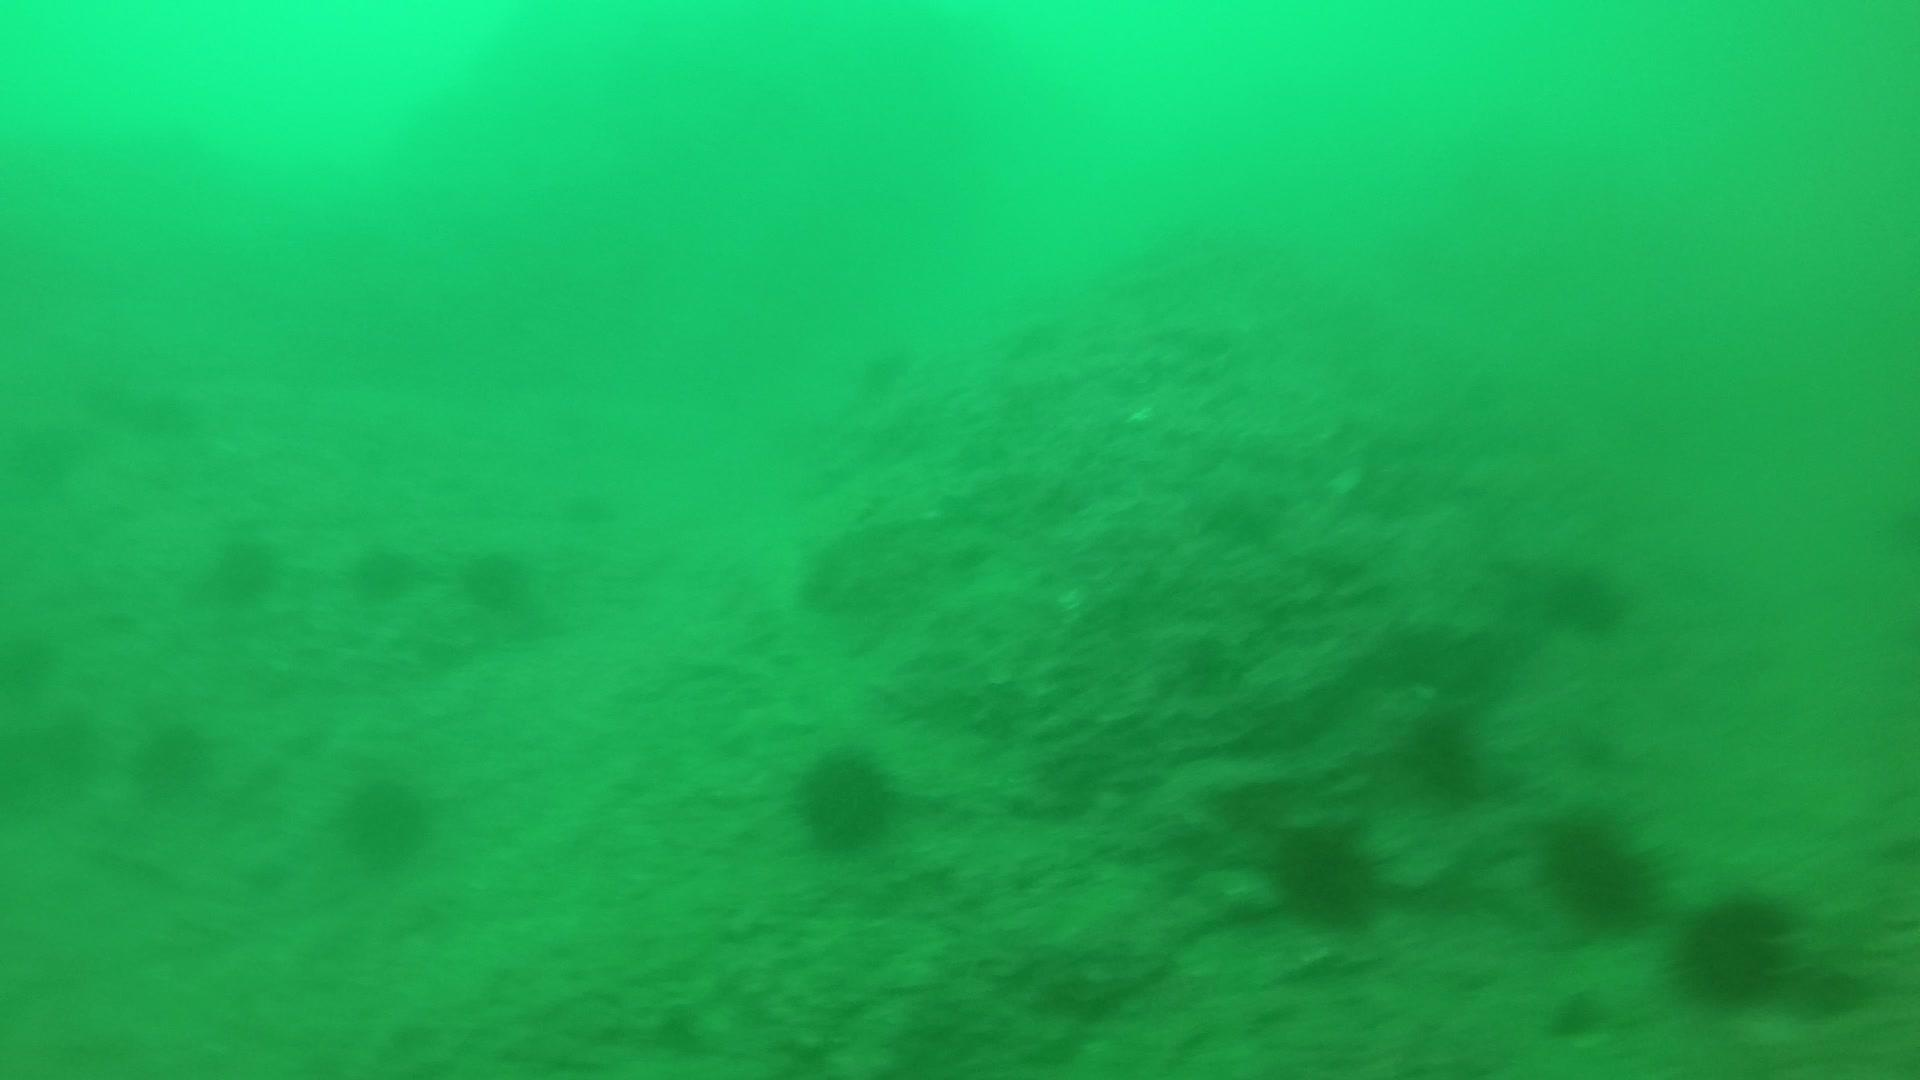echinus: (1534, 804, 1667, 930), (1667, 886, 1799, 1010), (1265, 814, 1389, 934), (789, 741, 903, 856), (332, 765, 439, 869), (1395, 702, 1491, 803), (128, 713, 220, 800), (1539, 554, 1633, 638), (199, 524, 285, 607), (455, 541, 539, 617), (345, 537, 419, 604), (1542, 986, 1610, 1044)
